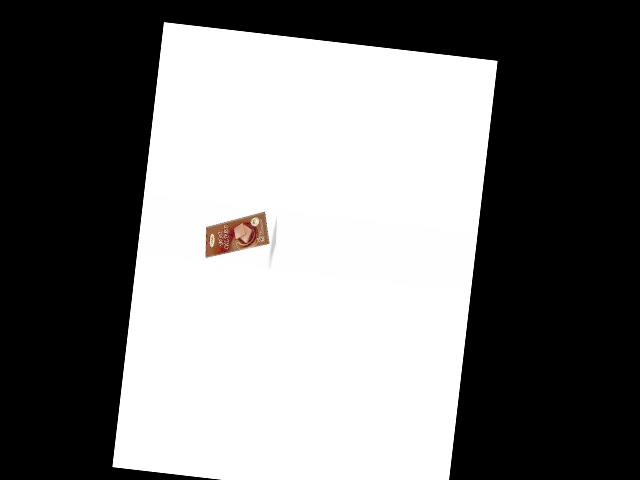chocolate: (201, 203, 276, 266)
